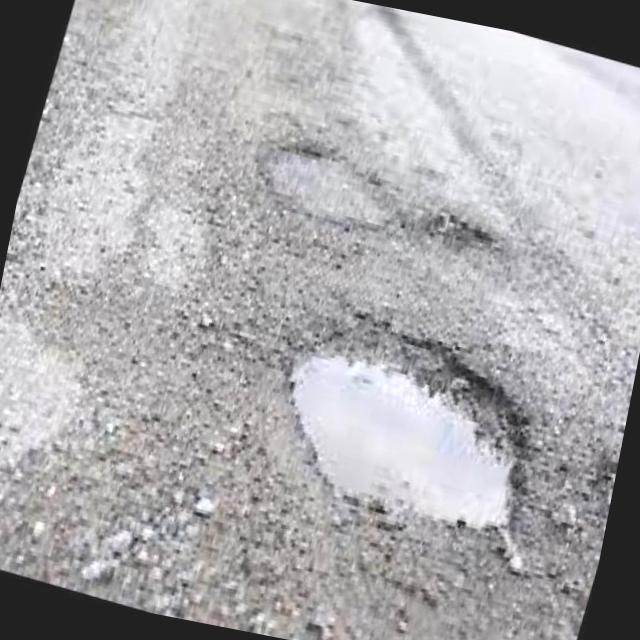Pathole: (289, 325, 533, 530)
